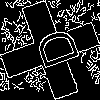D: (25, 25, 81, 75)
